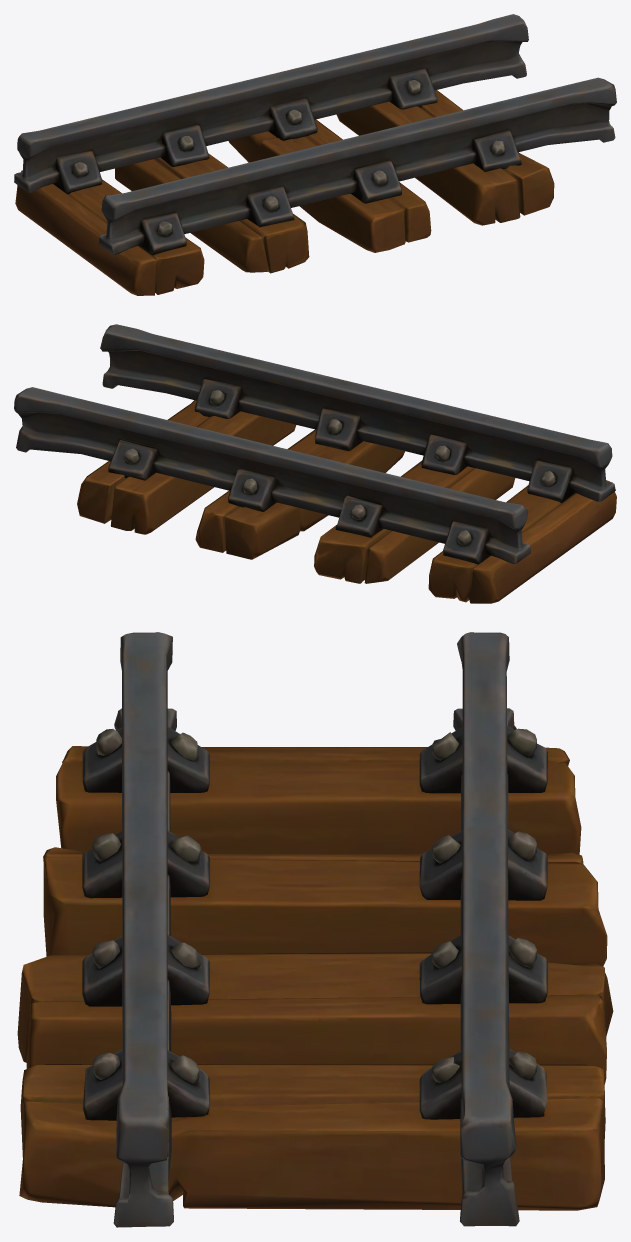
The model's file is tunnel_rails.glb.
3 renders of one model, top to bottom at view 1: azimuth 30°, elevation 25°; view 2: azimuth 150°, elevation 25°; view 3: azimuth 270°, elevation 25°, orthographic. The views are drawn at different scales.
Parts seen in each view (by area): view 1: geometry_0; view 2: geometry_0; view 3: geometry_0.
Part boxes in pixels (bbox=[...]): geometry_0: bbox=[14, 14, 616, 295]; geometry_0: bbox=[14, 324, 616, 603]; geometry_0: bbox=[17, 632, 613, 1227].
Bounding box in the file's own units: 0.957 × 0.164 × 0.4907.
Materials: 1 (1 with a texture image).
